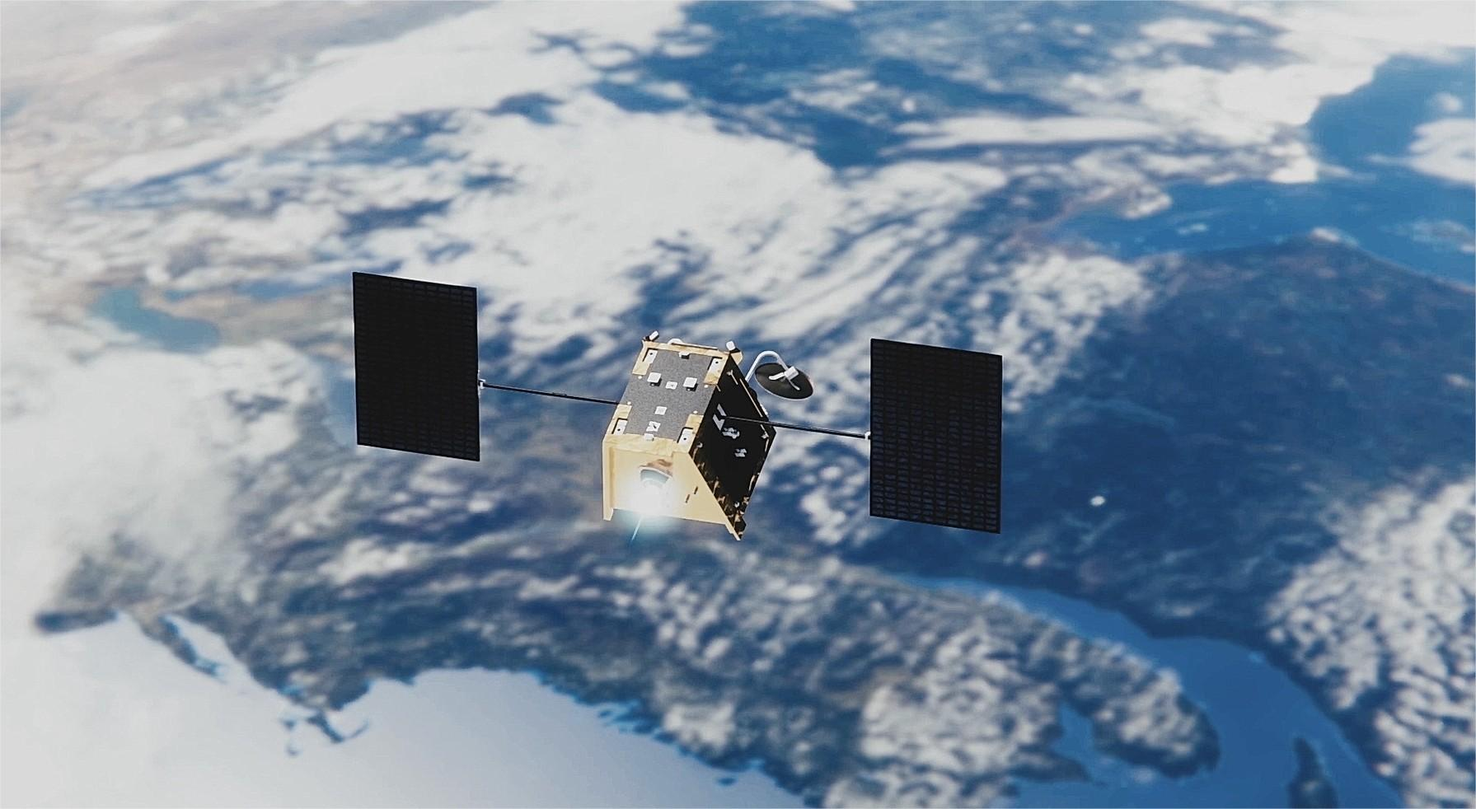antenna: (752, 360, 817, 403)
body: (601, 330, 779, 548)
solar: (868, 335, 1005, 538), (349, 269, 483, 465)
thruster: (635, 470, 674, 503)
